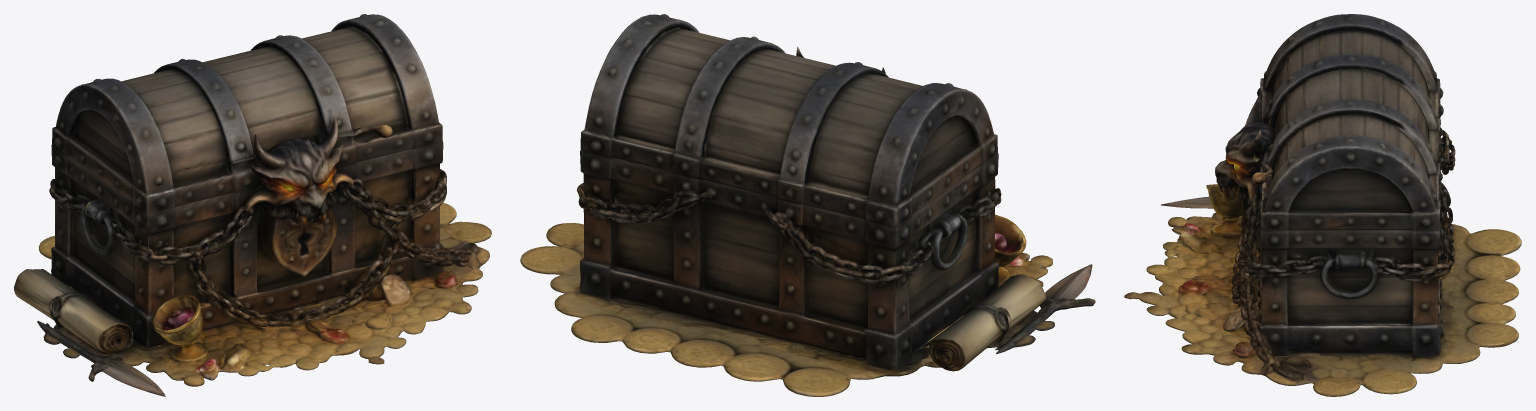
File: treasure-chest.glb
The picture shows the model from 3 angles, left to right: view 1: azimuth 30°, elevation 25°; view 2: azimuth 150°, elevation 25°; view 3: azimuth 270°, elevation 25°; orthographic projection. The views are drawn at different scales.
Visible parts, largest first — view 1: node_0; view 2: node_0; view 3: node_0.
Boxes of the visible parts, left/top/right/bottom form: node_0: left=14, top=14, right=491, bottom=396; node_0: left=520, top=14, right=1095, bottom=396; node_0: left=1124, top=14, right=1521, bottom=396.
Size of the model in its own units: 1.03 by 0.4924 by 0.8291.
Materials: 1 (1 with a texture image).
